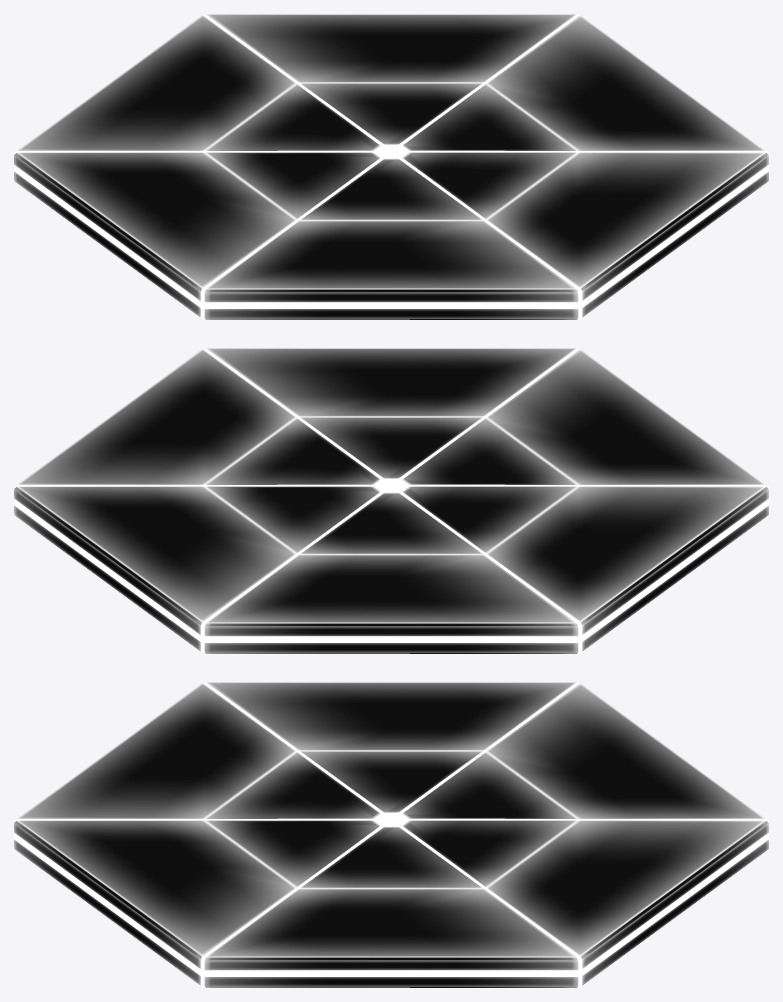
File: tile.glb
The picture shows the model from 3 angles, top to bottom: view 1: azimuth 30°, elevation 25°; view 2: azimuth 150°, elevation 25°; view 3: azimuth 270°, elevation 25°; orthographic projection.
Visible parts, largest first — view 1: Object_3, Object_2; view 2: Object_3, Object_2; view 3: Object_3, Object_2.
Boxes of the visible parts, box(x1,y1,x2,y2) form: Object_3: box(14, 14, 768, 319); Object_2: box(14, 14, 768, 319); Object_3: box(14, 348, 768, 653); Object_2: box(14, 348, 768, 653); Object_3: box(14, 682, 768, 987); Object_2: box(14, 682, 768, 987).
Bounding box in the file's own units: 5.2 × 0.267 × 5.98.
Materials: 2 (1 with a texture image).
